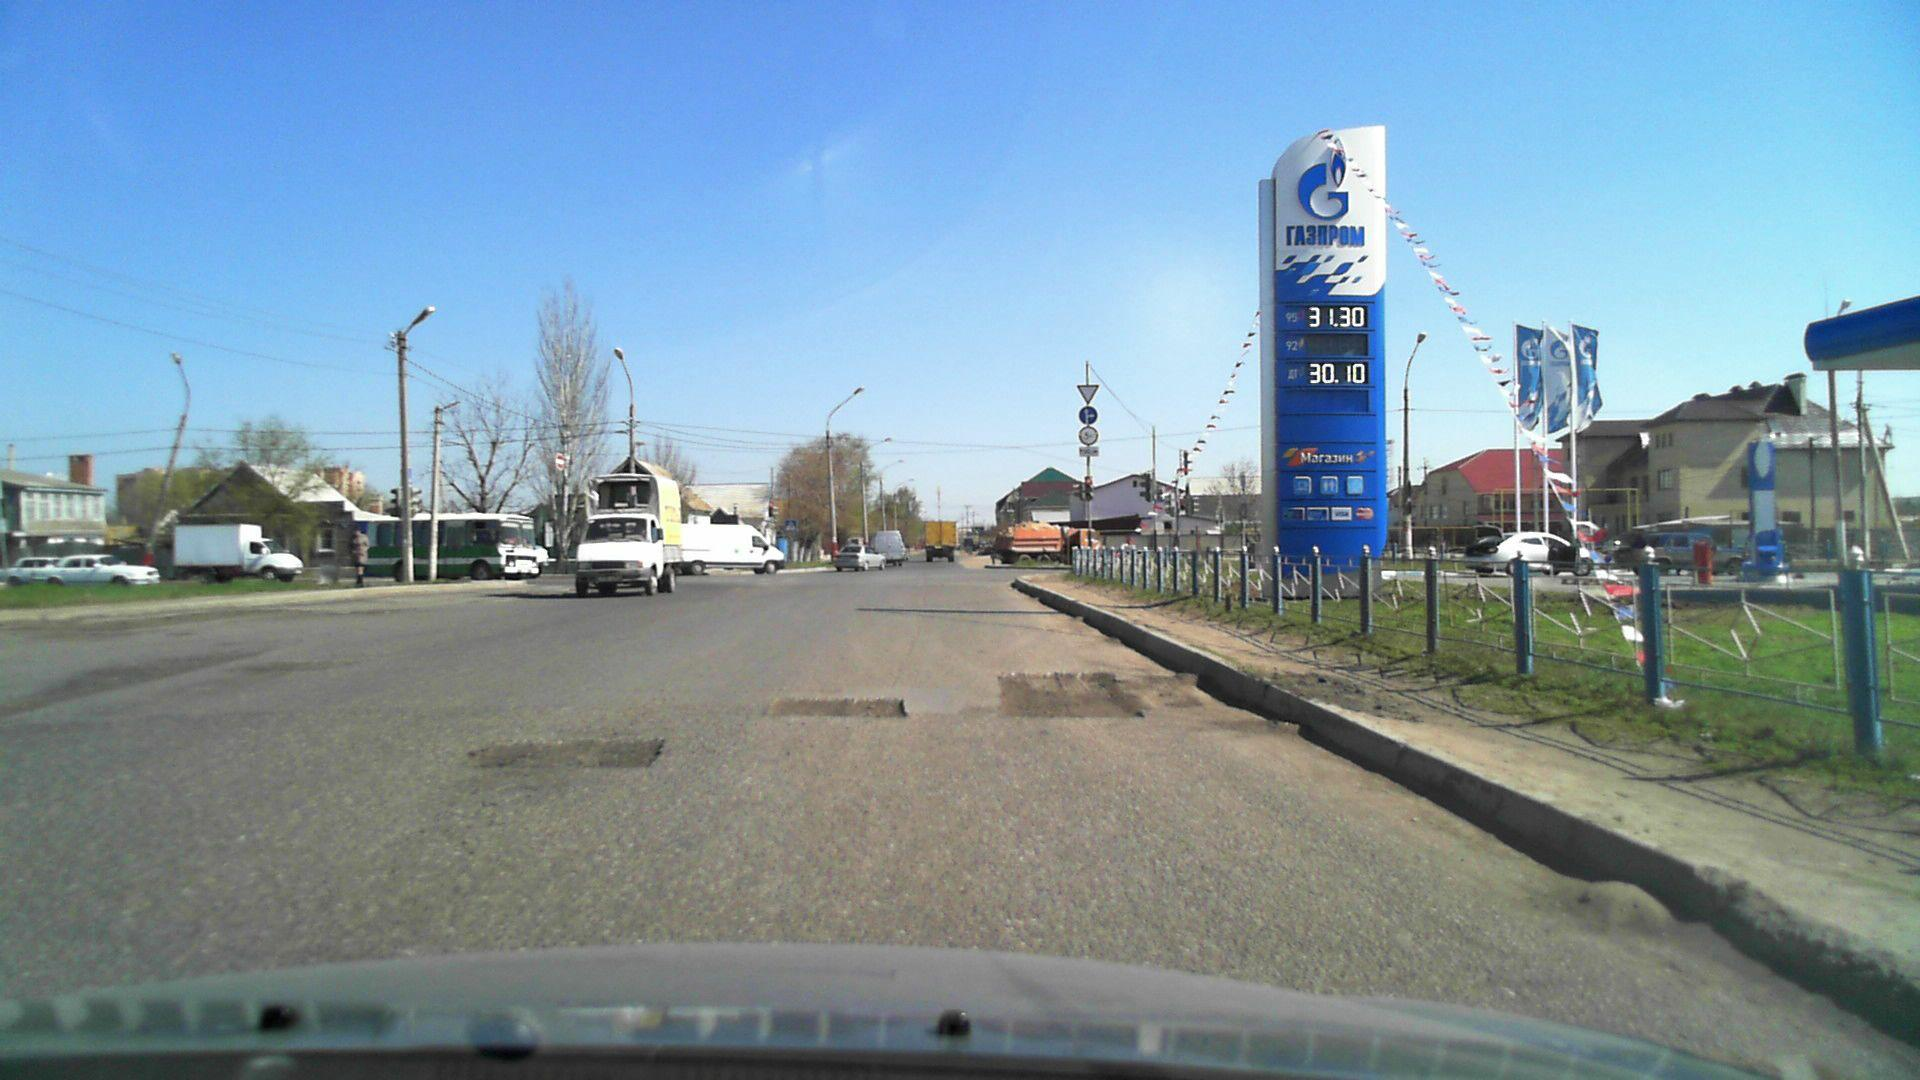2_4: (1075, 384, 1100, 404)
3_1: (555, 452, 566, 472)
3_11: (1077, 425, 1098, 444)
4_1_4: (1079, 405, 1100, 425)
5_19_2: (783, 518, 798, 531)
8_1_4: (1079, 446, 1101, 456)
